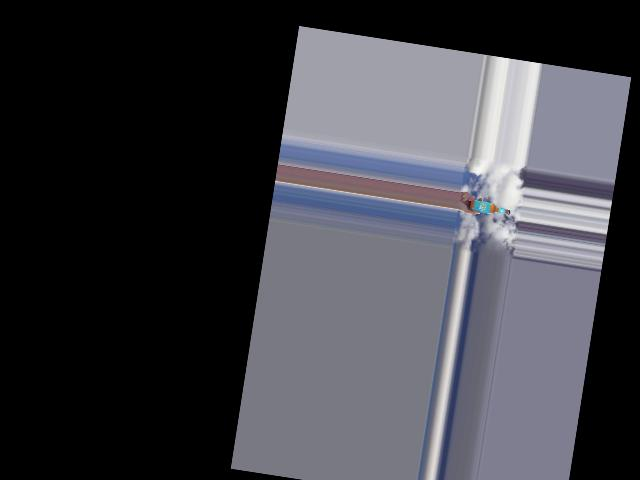beer: (468, 200, 511, 217)
